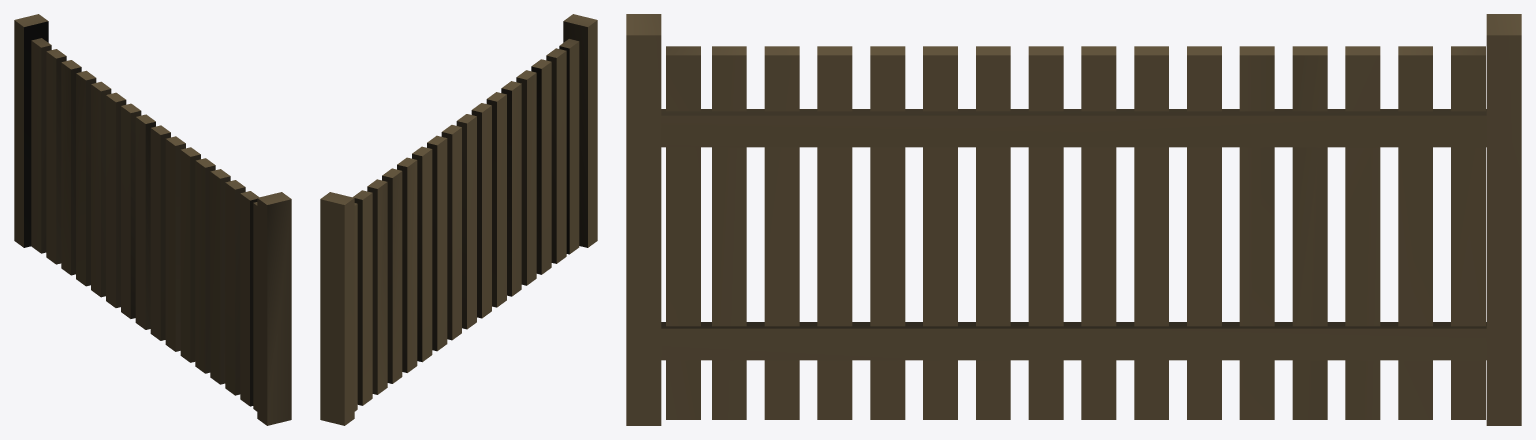
Rendered from Wood_Fence_Dence.fbx.
3 views of the same model, side by side, from view 1: azimuth 30°, elevation 25°; view 2: azimuth 150°, elevation 25°; view 3: azimuth 270°, elevation 25° (orthographic). The views are drawn at different scales.
Parts seen in each view (by area): view 1: Wood_Fence_Dence; view 2: Wood_Fence_Dence; view 3: Wood_Fence_Dence.
Part boxes in pixels (x1,y1,x2,y2): Wood_Fence_Dence: (14,14,291,425); Wood_Fence_Dence: (320,14,597,425); Wood_Fence_Dence: (626,14,1521,425).
Size of the model in its own units: 0.0103 by 0.0882 by 0.1832.
